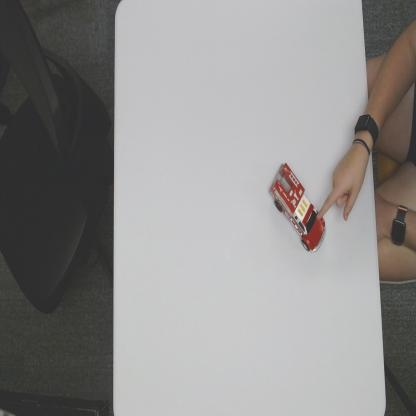Firetruck: (268, 161, 327, 253)
Hand: (318, 136, 368, 223)
